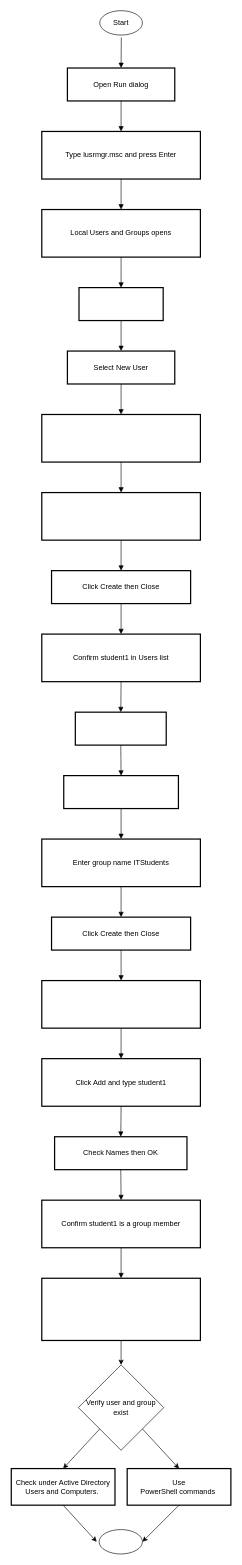
Some shapes in this 242 by 1565 pixel diagram are drawn without their labels. Here are the shapes that lost their labels. From the top down, the centre of each, then its label:
At point 120,304: "Click Users".
At point 121,438: "Fill details: username student1 and password".
At point 121,516: "Optional: uncheck must change password".
At point 120,728: "Click Groups".
At point 121,792: "Select New Group".
At point 121,1004: "Open ITStudents group properties".
At point 121,1309: "Create folder SharedIT and set permissions for ITStudents".
At point 120,1541: "End".
